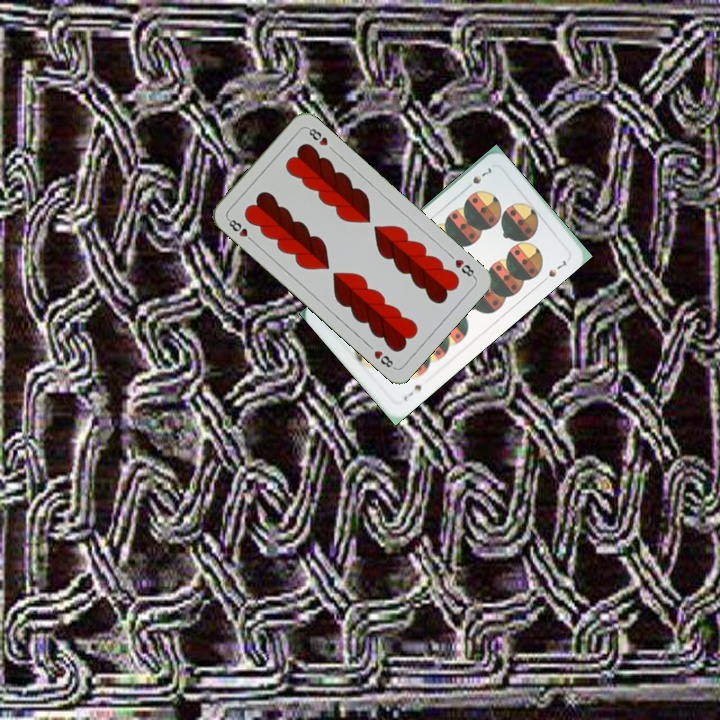H8: (223, 214, 257, 245), (451, 255, 478, 281)
S7: (461, 164, 494, 193), (399, 380, 424, 404)
